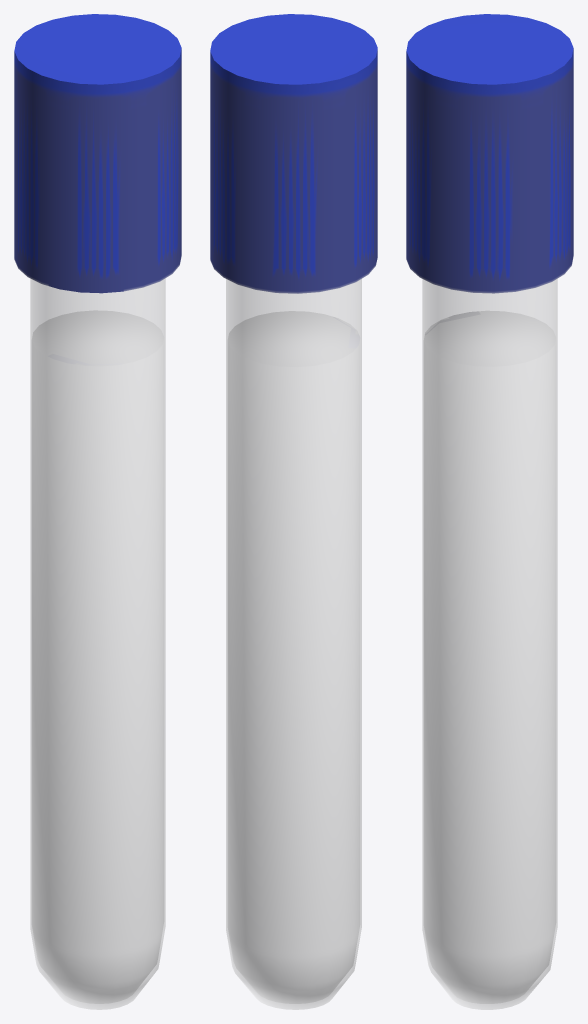
Rendered from 流式管.glb.
The picture shows the model from 3 angles, left to right: view 1: azimuth 30°, elevation 25°; view 2: azimuth 150°, elevation 25°; view 3: azimuth 270°, elevation 25°; orthographic projection.
Visible parts, largest first — view 1: 流式管, 流式管_液面, 流式管_盖子; view 2: 流式管, 流式管_液面, 流式管_盖子; view 3: 流式管, 流式管_液面, 流式管_盖子.
Boxes of the visible parts, x1,y1,x2,y2 form: 流式管: (30,278,165,1009); 流式管_液面: (32,311,163,1003); 流式管_盖子: (14,14,181,293); 流式管: (226,279,361,1009); 流式管_液面: (228,311,359,1003); 流式管_盖子: (210,14,377,293); 流式管: (422,279,557,1009); 流式管_液面: (424,311,555,1003); 流式管_盖子: (406,14,573,293).
Bounding box in the file's own units: 0.0195 × 0.1217 × 0.0195.
1 material, 1 textured.
